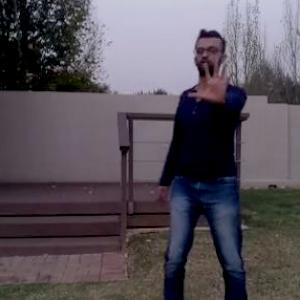follow_hand: (187, 56, 238, 102)
